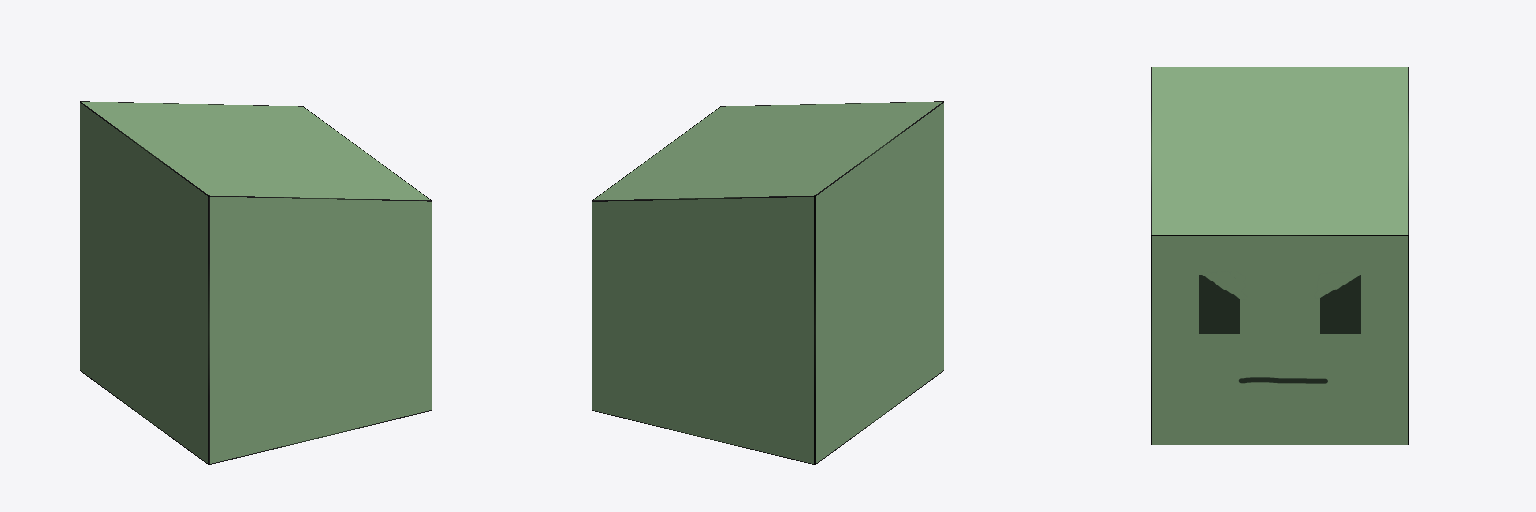
3 views of the same model, side by side, from view 1: azimuth 30°, elevation 25°; view 2: azimuth 150°, elevation 25°; view 3: azimuth 270°, elevation 25° (orthographic).
Visible parts, largest first — view 1: Cube; view 2: Cube; view 3: Cube.
Boxes of the visible parts, x1,y1,x2,y2 form: Cube: [80, 101, 431, 464]; Cube: [592, 101, 943, 464]; Cube: [1151, 67, 1408, 444].
Bounding box in the file's own units: 2 × 2.3 × 2.
1 materials, 1 textured.